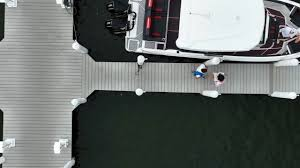boat: (56, 1, 300, 68)
